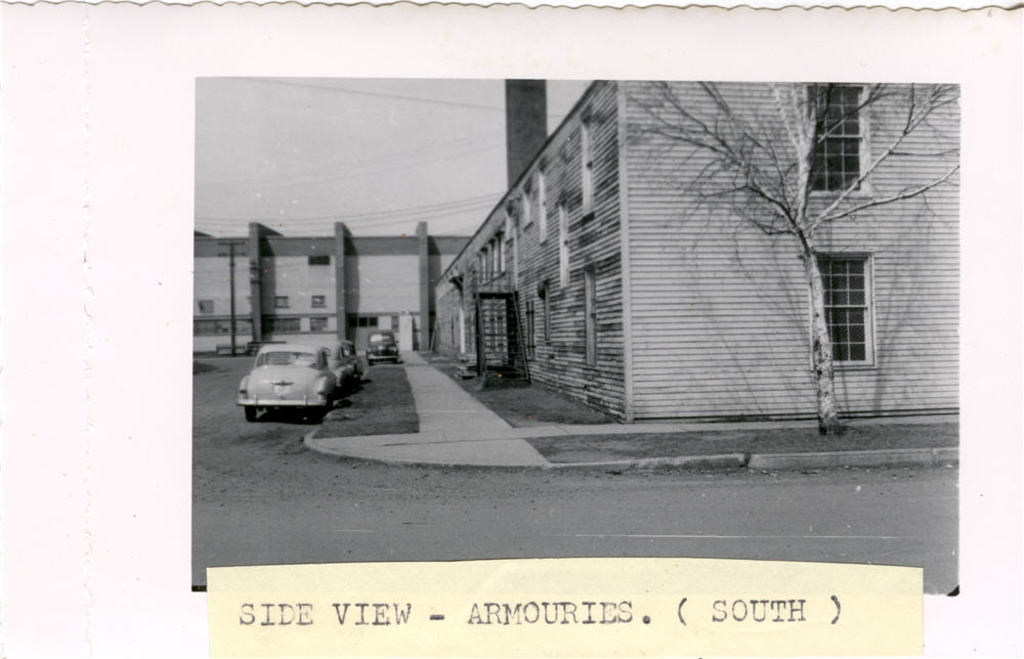Car: (234, 341, 336, 429), (289, 341, 348, 387), (364, 326, 396, 366), (340, 342, 358, 379)
